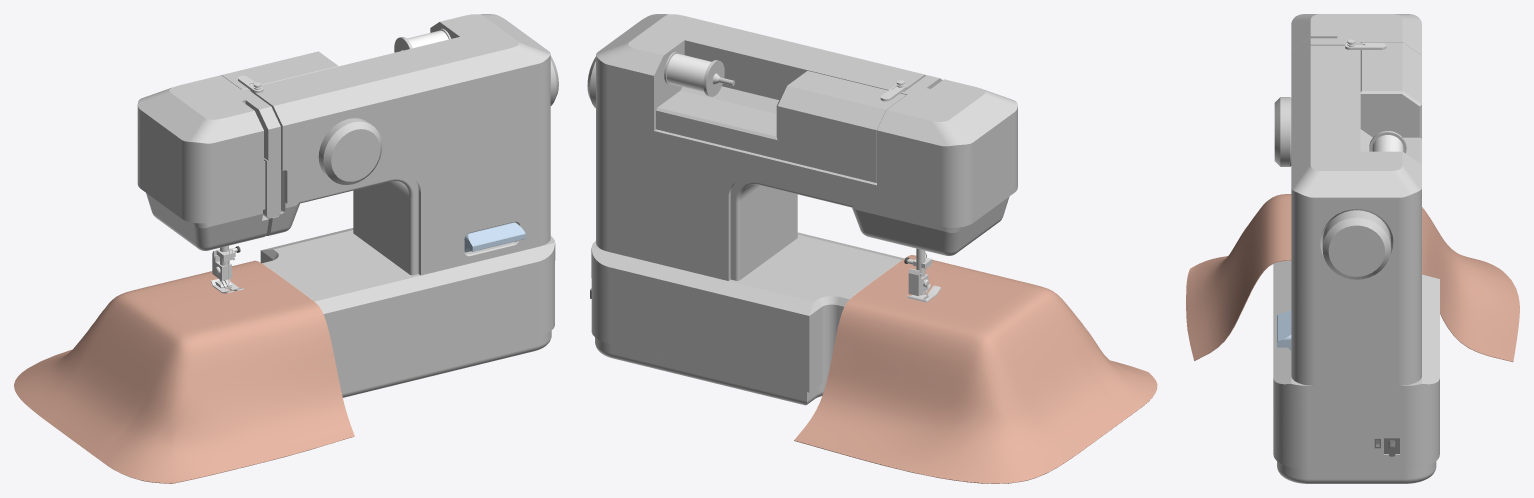
File: 988_sewing_machine_with_cloth.glb
The picture shows the model from 3 angles, left to right: view 1: azimuth 30°, elevation 25°; view 2: azimuth 150°, elevation 25°; view 3: azimuth 270°, elevation 25°; orthographic projection. The views are drawn at different scales.
Visible parts, largest first — view 1: body, cloth, kaesinui lever, osae; view 2: body, cloth, ito, osae, bobin; view 3: body, cloth, kaesinui lever, ito.
Part boxes in pixels (<box>): body: <box>137,14,558,397</box>; cloth: <box>14,260,354,483</box>; kaesinui lever: <box>464,222,525,252</box>; osae: <box>211,245,244,293</box>; body: <box>587,14,1017,405</box>; cloth: <box>794,255,1157,483</box>; ito: <box>666,53,711,92</box>; osae: <box>907,248,940,302</box>; bobin: <box>664,51,734,96</box>; body: <box>1273,14,1439,483</box>; cloth: <box>1186,194,1519,361</box>; kaesinui lever: <box>1277,310,1291,350</box>; ito: <box>1372,135,1403,151</box>.
Bounding box in the file's own units: 0.4833 × 0.288 × 0.2807.
